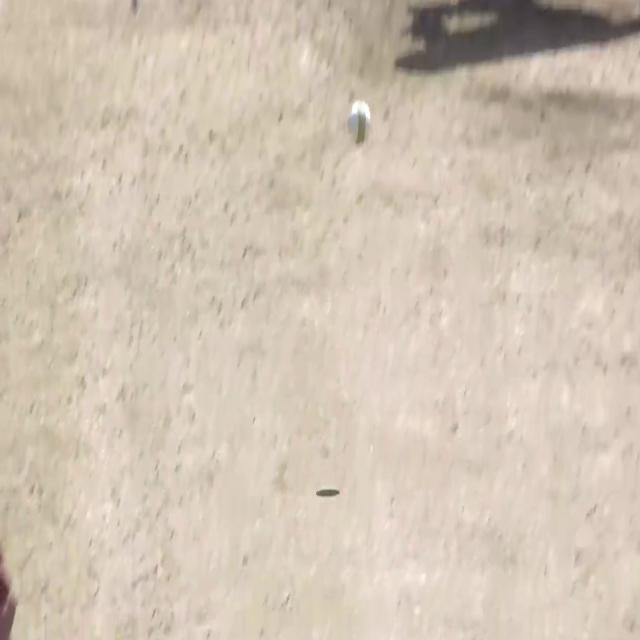ball: (347, 98, 372, 148)
